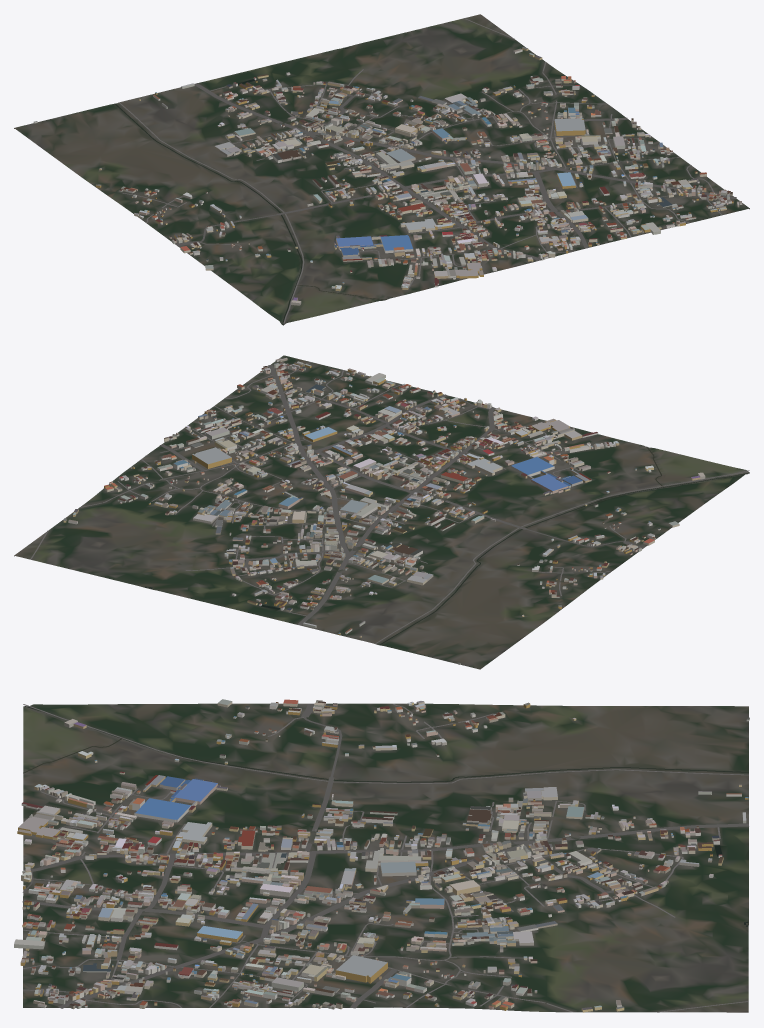
3 renders of one model, top to bottom at view 1: azimuth 30°, elevation 25°; view 2: azimuth 150°, elevation 25°; view 3: azimuth 270°, elevation 25°, orthographic. The views are drawn at different scales.
Parts seen in each view (by area): view 1: ground, buildings, roads, water; view 2: ground, buildings, roads, water; view 3: ground, buildings, roads, water.
Boxes of the visible parts, box(x1,y1,x2,y2) form: ground: box(14, 14, 749, 325); buildings: box(33, 47, 742, 305); roads: box(118, 18, 736, 323); water: box(114, 46, 386, 324); ground: box(14, 355, 749, 669); buildings: box(63, 357, 705, 664); roads: box(30, 362, 749, 643); water: box(145, 446, 749, 644); ground: box(23, 703, 748, 1012); buildings: box(14, 699, 749, 1012); roads: box(22, 703, 748, 1012); water: box(23, 706, 748, 926).
Size of the model in its own units: 1416 by 34.83 by 1420.
